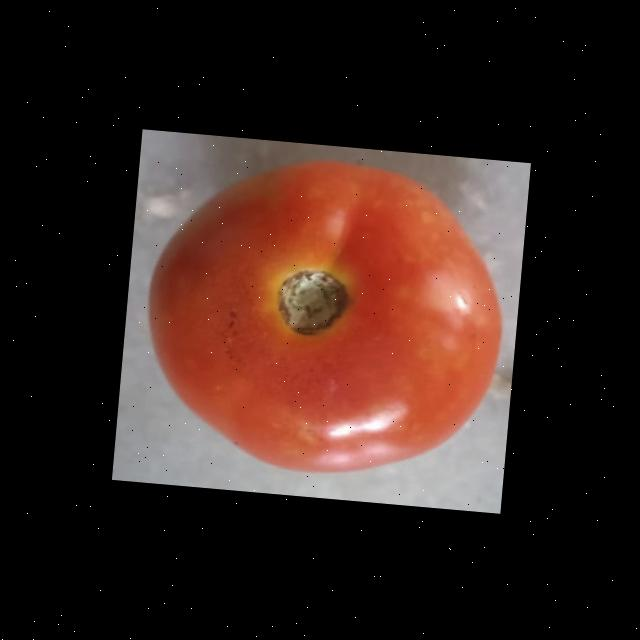tomato: (131, 142, 528, 498)
